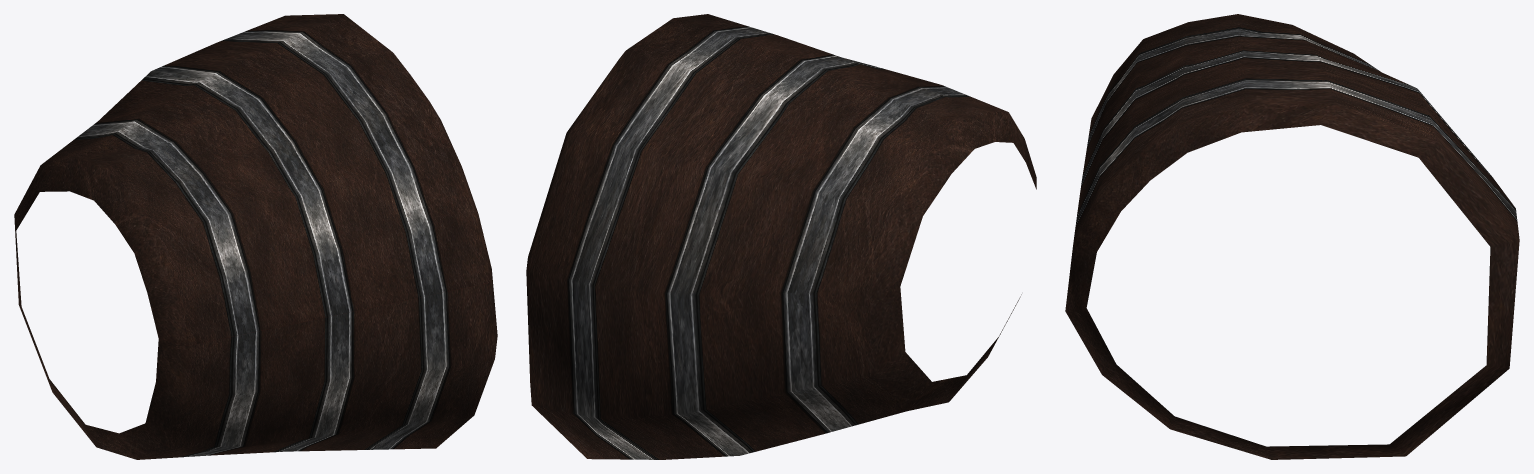
The model's file is mm9_imp_wrapl.glb.
3 renders of one model, left to right at view 1: azimuth 30°, elevation 25°; view 2: azimuth 150°, elevation 25°; view 3: azimuth 270°, elevation 25°, orthographic. The views are drawn at different scales.
Visible parts, largest first — view 1: Xwrap L; view 2: Xwrap L; view 3: Xwrap L.
Part boxes in pixels (x1=…): Xwrap L: x1=14, y1=14, x2=497, y2=459; Xwrap L: x1=526, y1=14, x2=1036, y2=459; Xwrap L: x1=1065, y1=14, x2=1519, y2=459.
Bounding box in the file's own units: 0.0864 × 0.103 × 0.1187.
Materials: 1 (1 with a texture image).
